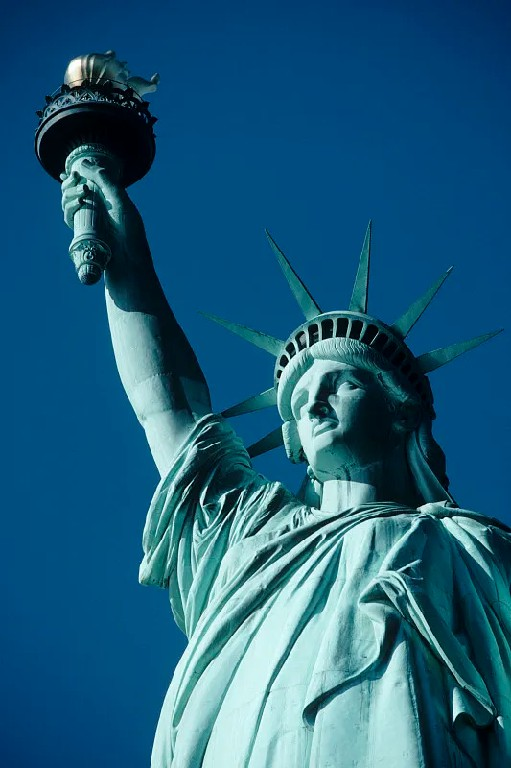SL: (35, 50, 511, 768)
